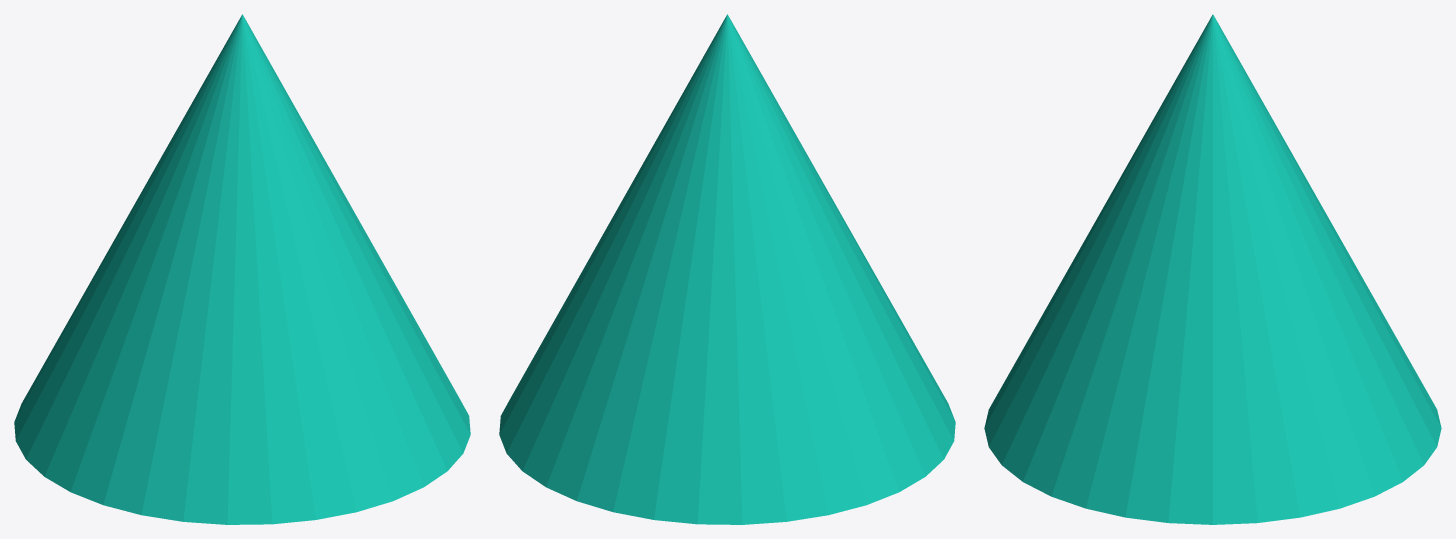
The model's file is Party Hat Blue.fbx.
3 renders of one model, left to right at view 1: azimuth 30°, elevation 25°; view 2: azimuth 150°, elevation 25°; view 3: azimuth 270°, elevation 25°, orthographic.
Parts seen in each view (by area): view 1: Cone; view 2: Cone; view 3: Cone.
Part boxes in pixels (box(x1,y1,x2,y2)): Cone: box(14, 14, 470, 524); Cone: box(499, 14, 955, 524); Cone: box(984, 14, 1441, 524).
Bounding box in the file's own units: 200 × 200 × 200.
